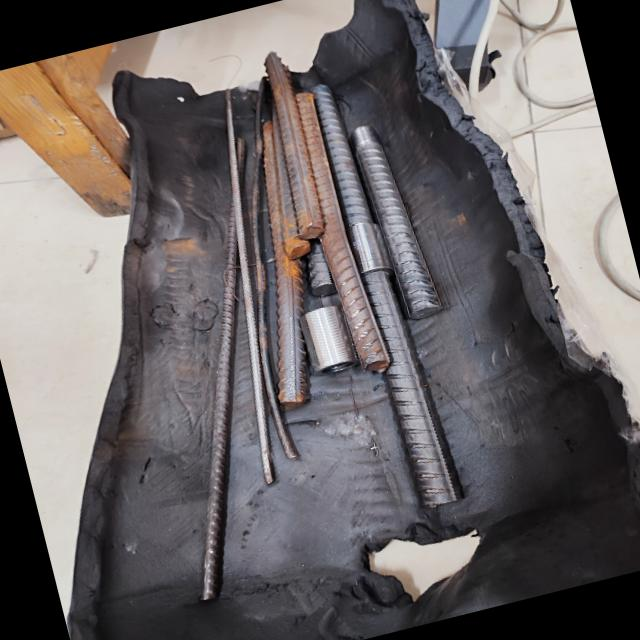Sleeve joint: (291, 299, 361, 386), (344, 213, 394, 283)
Welded link: (266, 81, 352, 245), (242, 112, 311, 261)
ribbed bar: (78, 133, 347, 603), (308, 70, 468, 516), (258, 39, 398, 386), (211, 116, 349, 416), (344, 107, 466, 326)
